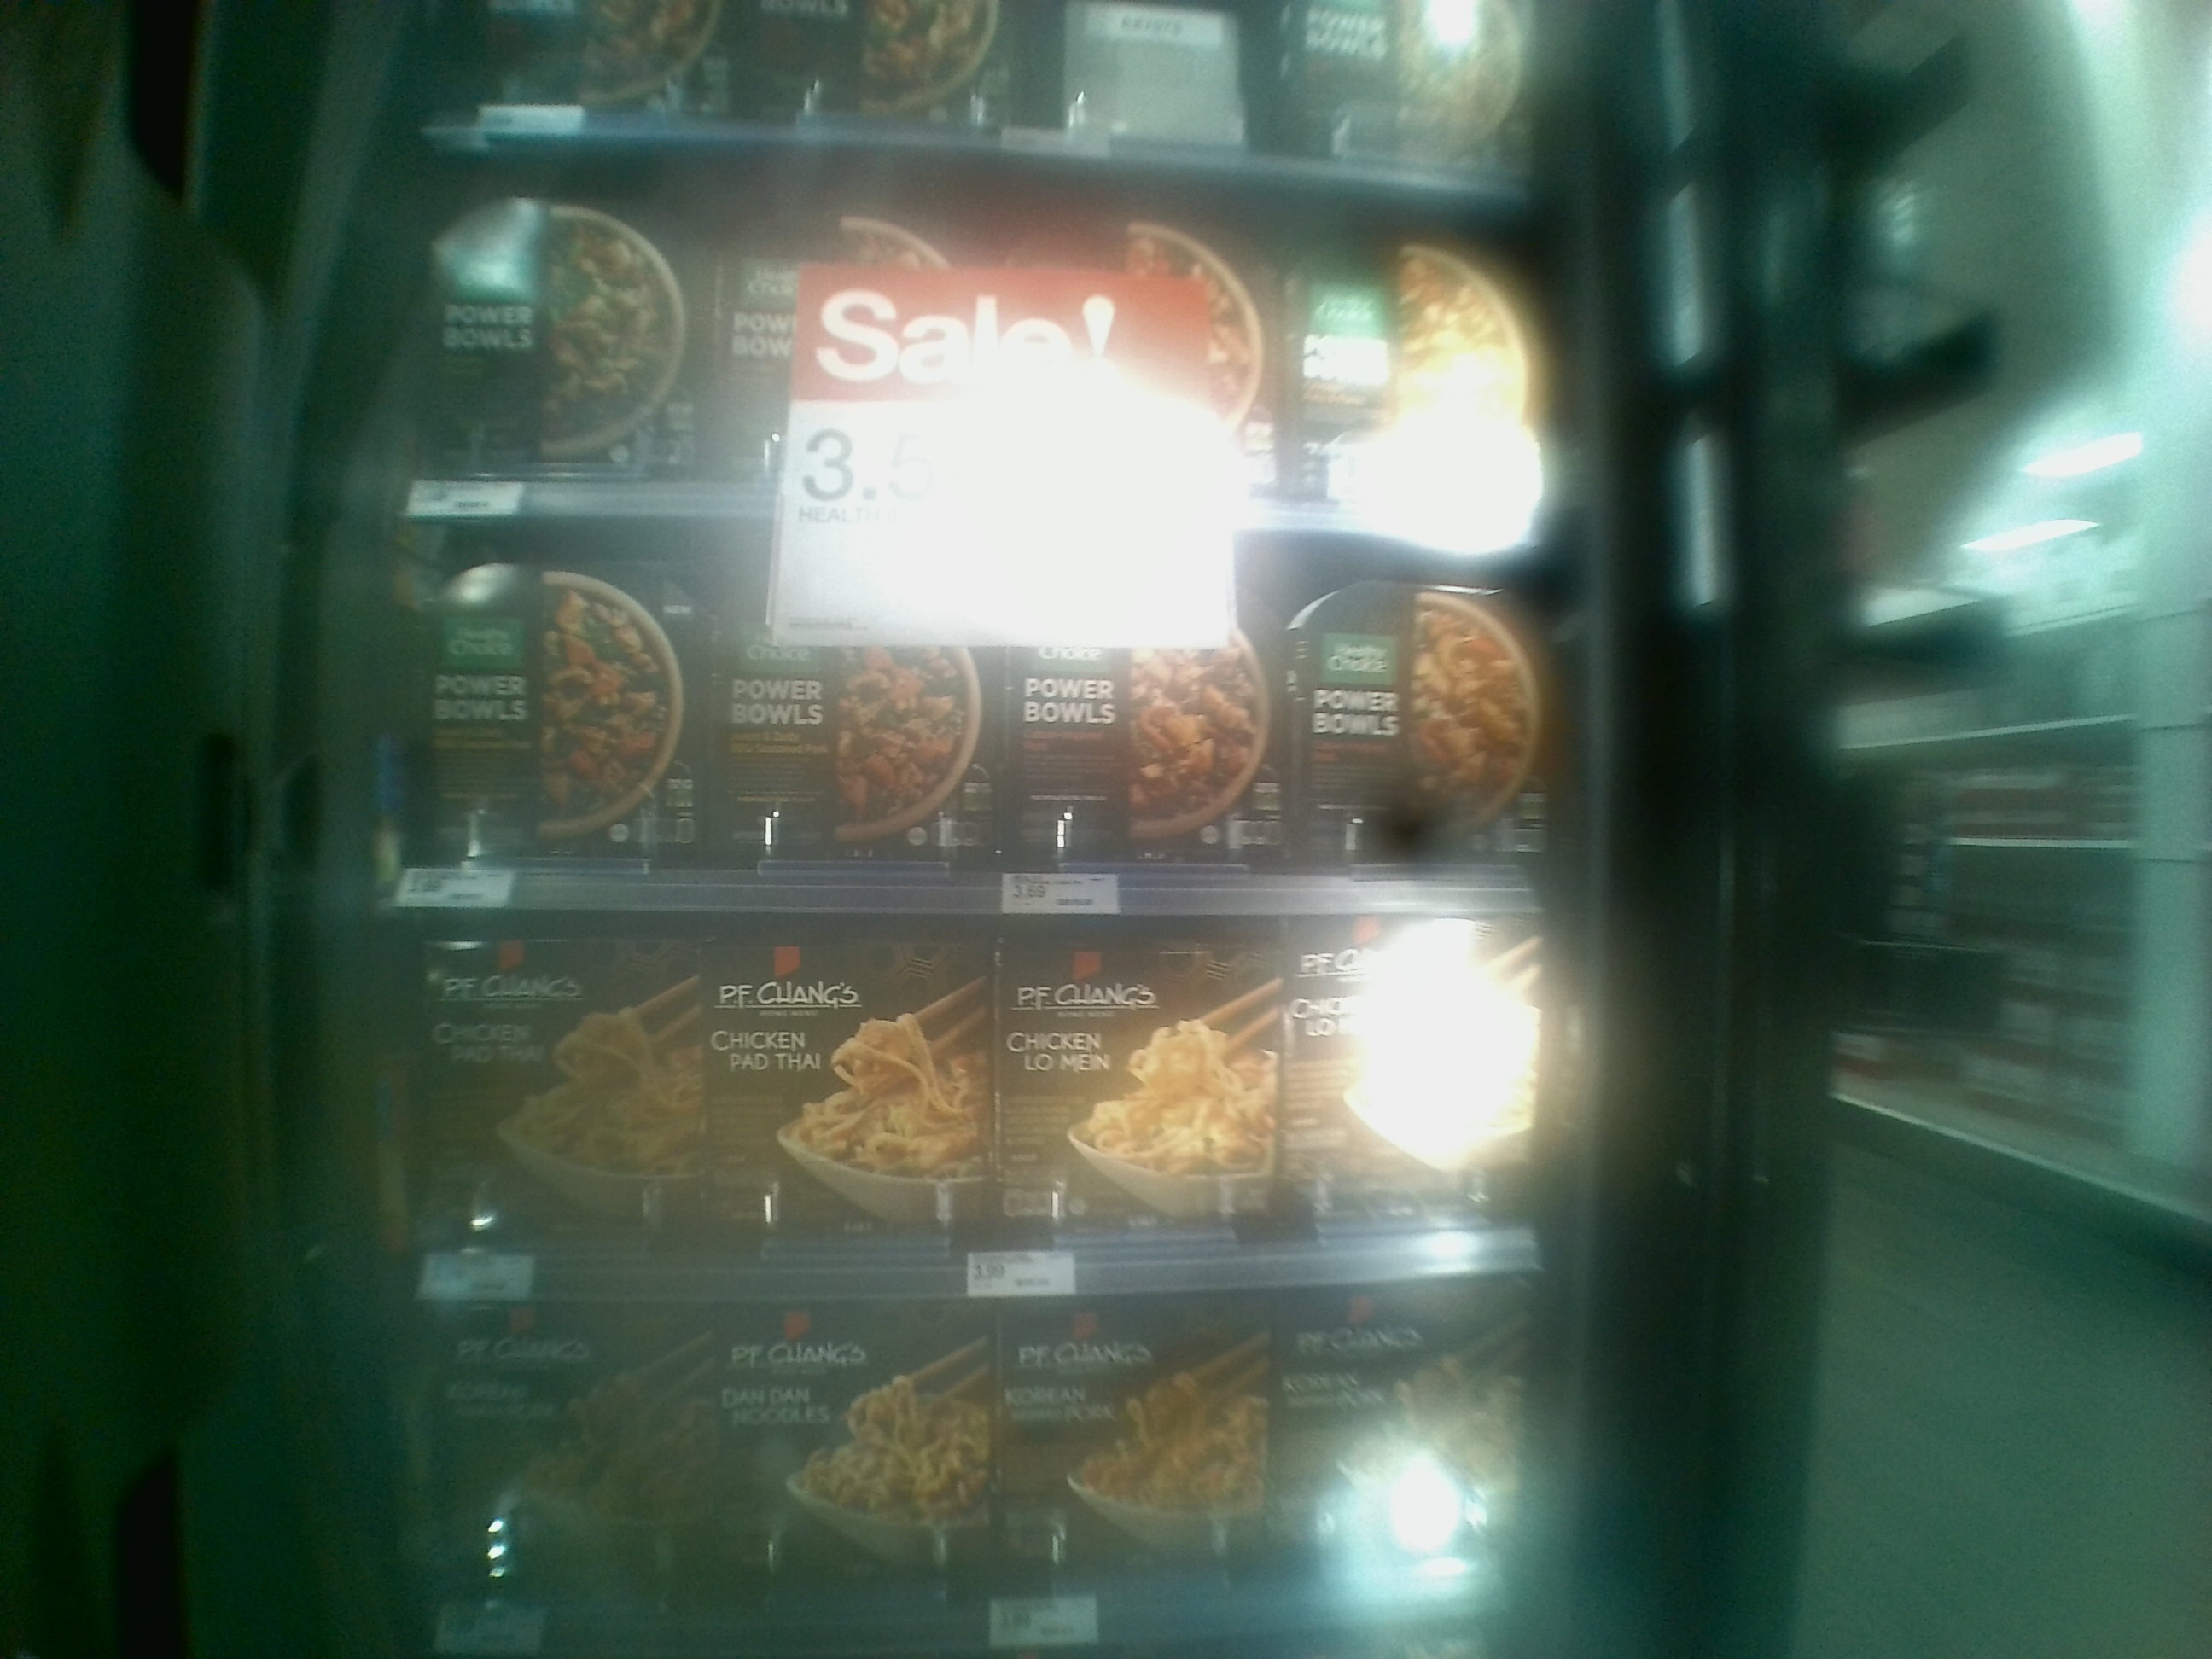shelf: (387, 516, 1541, 913)
